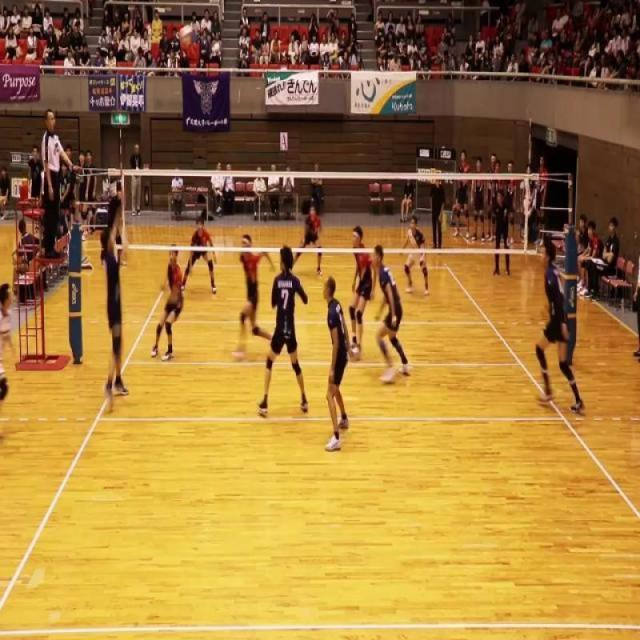volleyball: (179, 24, 193, 44)
